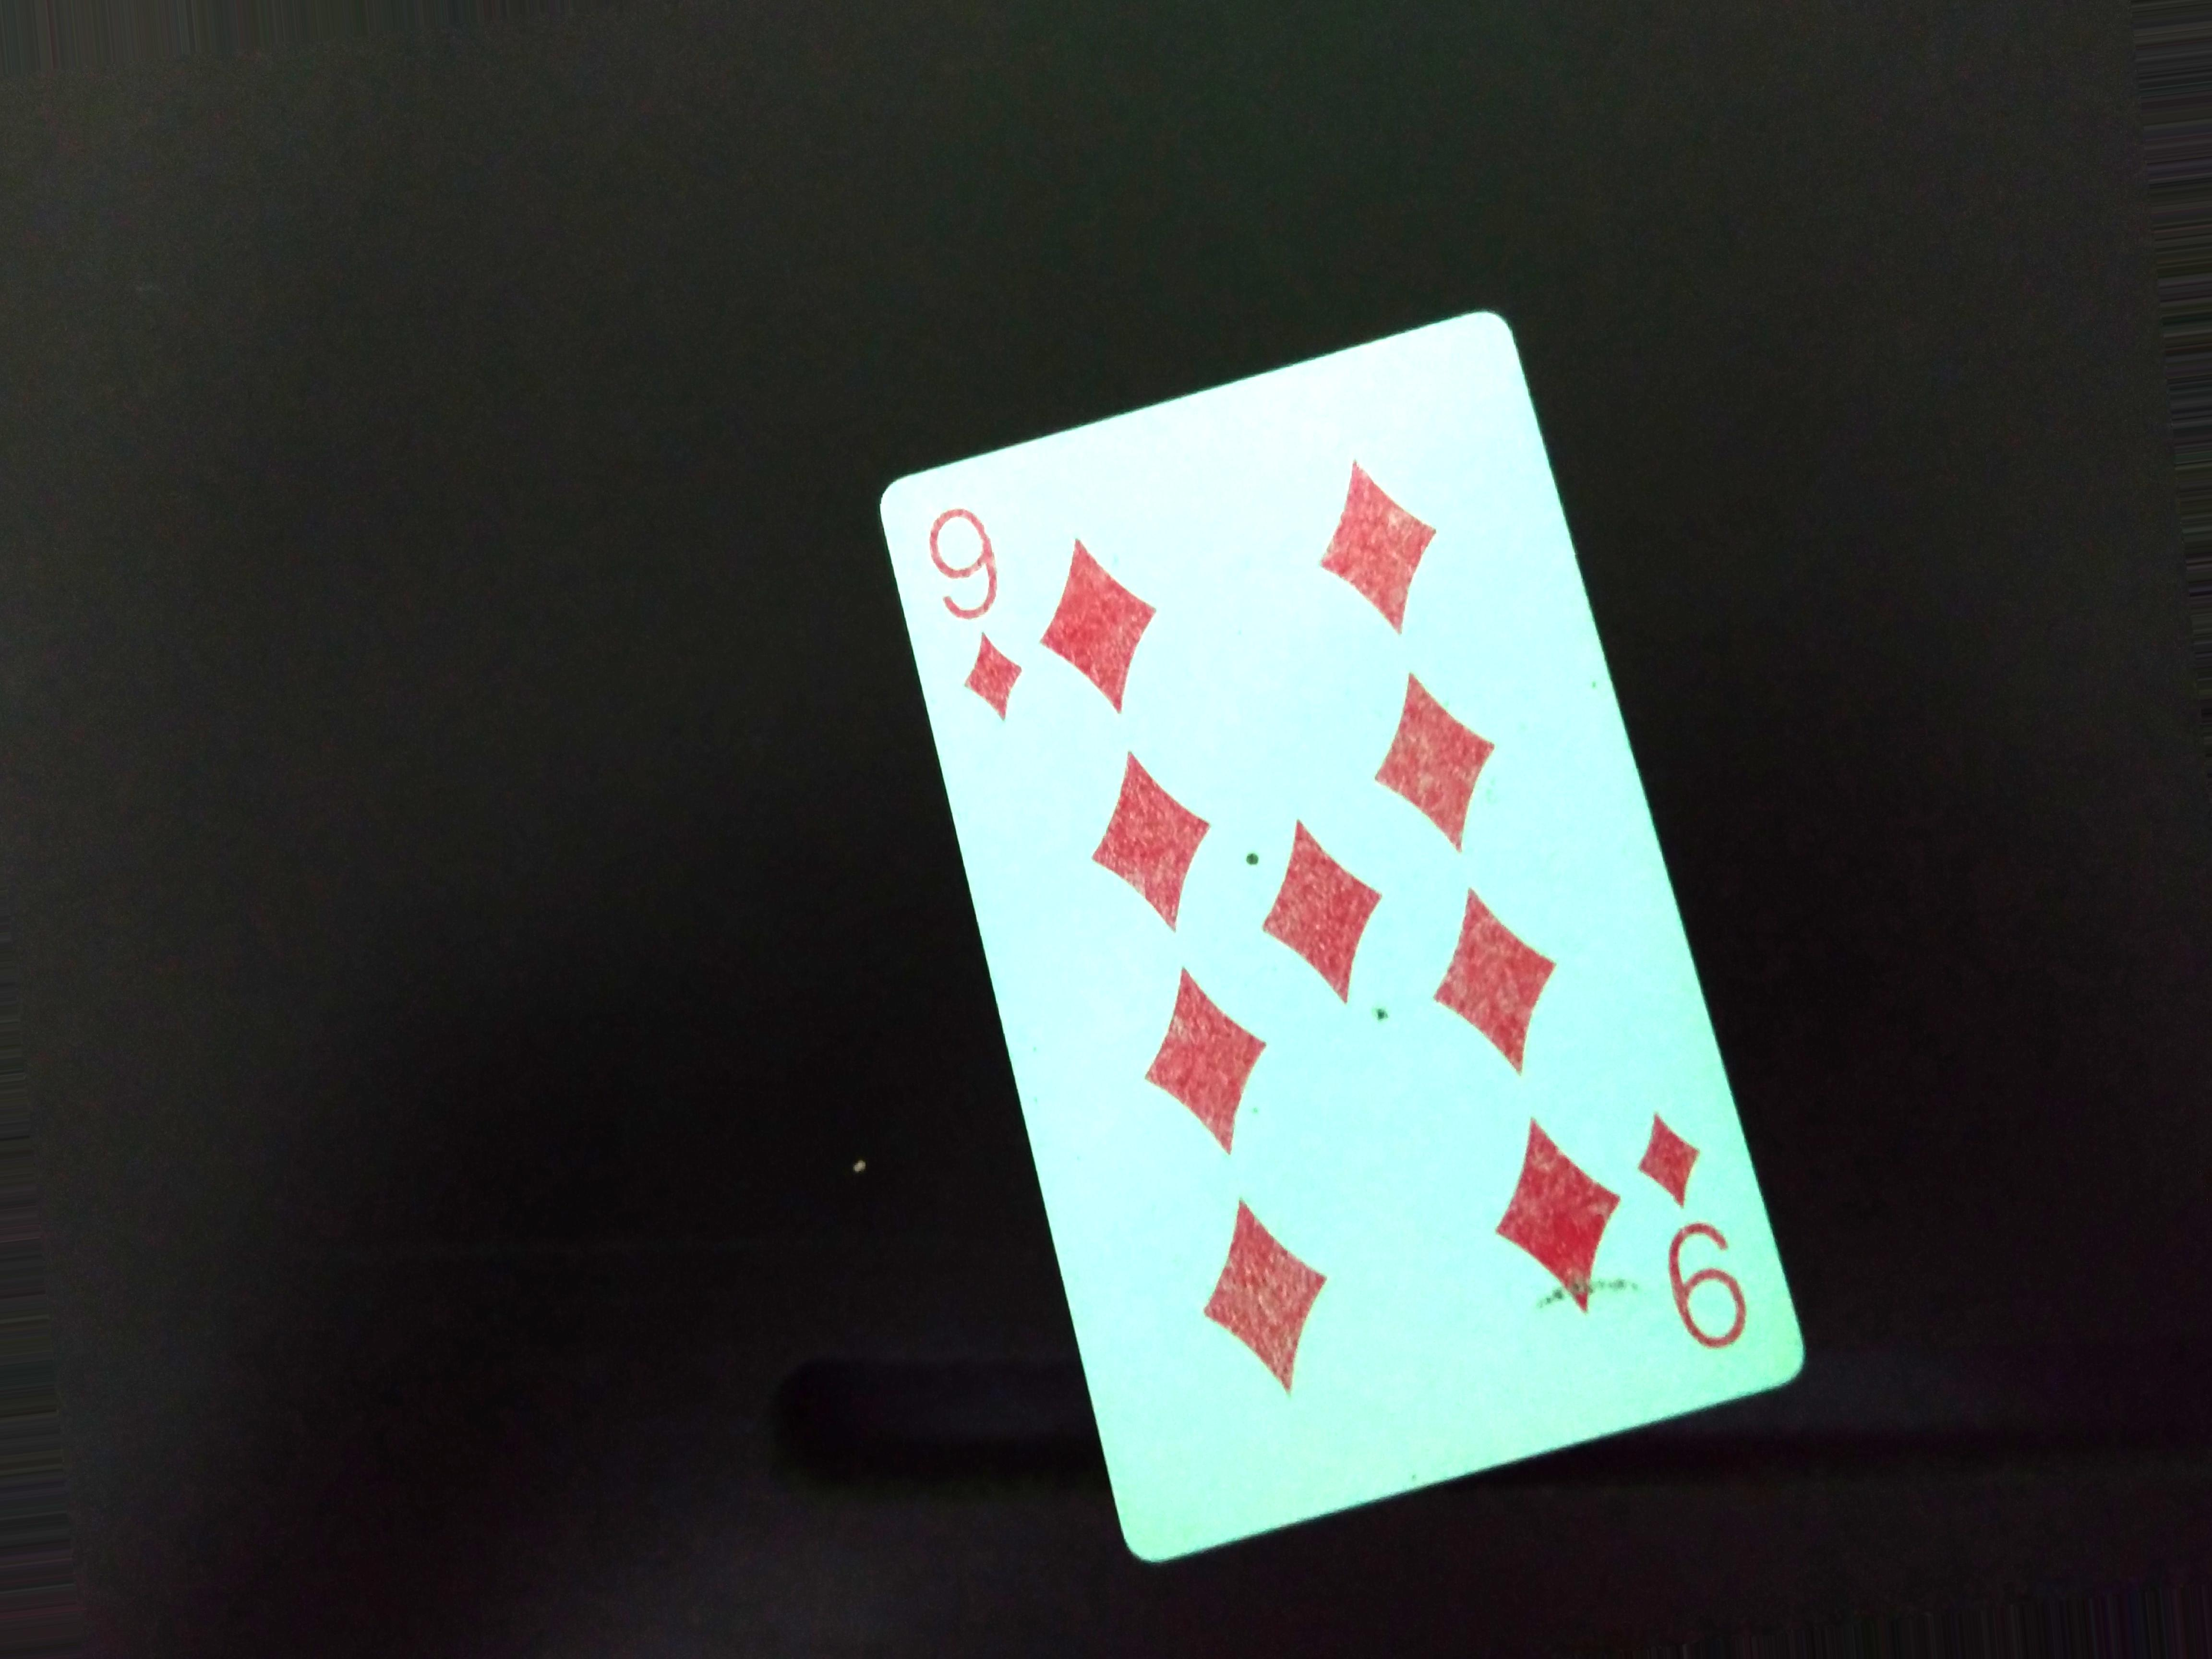9D: (1625, 1082, 1745, 1384)
